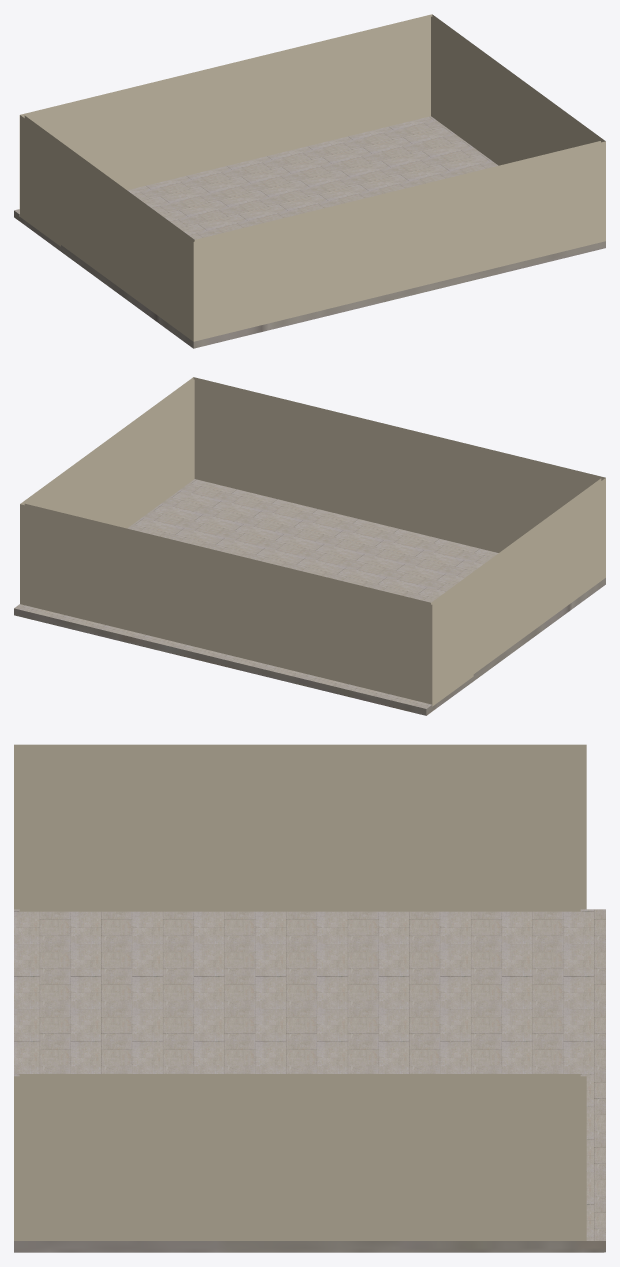
The model's file is Abasement.fbx.
3 renders of one model, top to bottom at view 1: azimuth 30°, elevation 25°; view 2: azimuth 150°, elevation 25°; view 3: azimuth 270°, elevation 25°, orthographic. The views are drawn at different scales.
Parts seen in each view (by area): view 1: Cube.134, Cube.135, Cube.136, Cube.133, Cube.132; view 2: Cube.135, Cube.134, Cube.136, Cube.133, Cube.132; view 3: Cube.136, Cube.133, Cube.132.
Boxes of the visible parts, x1,y1,x2,y2 form: Cube.134: (193,141,605,341); Cube.135: (19,14,432,216); Cube.136: (14,116,605,348); Cube.133: (20,115,194,341); Cube.132: (431,14,605,165); Cube.135: (20,503,432,704); Cube.134: (193,377,605,552); Cube.136: (14,479,605,715); Cube.133: (431,478,605,706); Cube.132: (20,377,194,528); Cube.136: (14,909,605,1252); Cube.133: (14,744,586,911); Cube.132: (14,1074,586,1240).
Size of the model in its own units: 1247 by 309 by 940.
